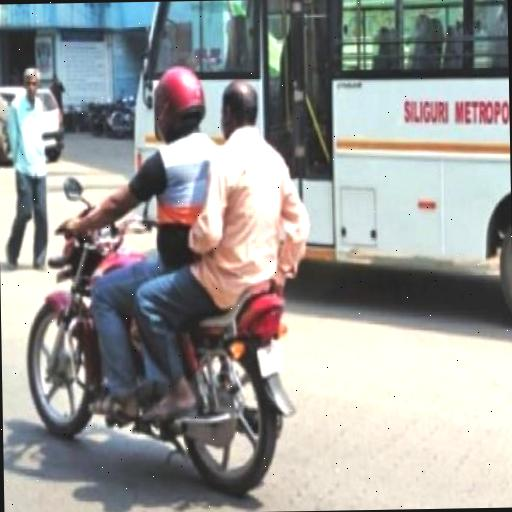helmet: (84, 50, 202, 438)
